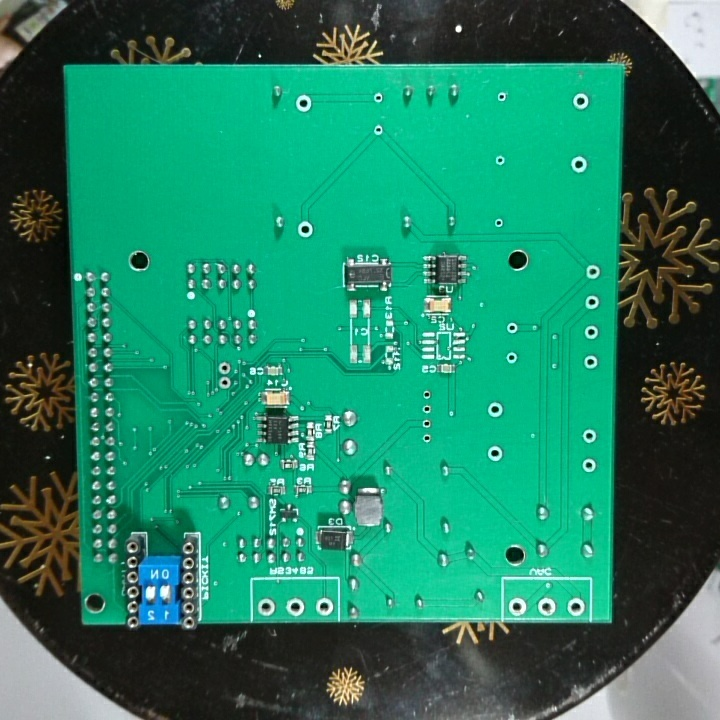F: (534, 595, 559, 618), (505, 595, 530, 618), (312, 596, 337, 618), (283, 596, 308, 618), (568, 154, 591, 177), (564, 595, 587, 618), (292, 92, 314, 115), (294, 218, 317, 240), (255, 596, 277, 618), (571, 90, 591, 113), (583, 262, 603, 283), (485, 443, 505, 463), (486, 400, 506, 420), (583, 292, 602, 313), (580, 426, 599, 446), (491, 151, 510, 170), (582, 323, 600, 343), (579, 457, 599, 475), (582, 351, 599, 372), (216, 374, 233, 392), (503, 320, 520, 337), (215, 360, 234, 375), (494, 89, 510, 106), (504, 351, 521, 366), (371, 89, 385, 107), (371, 120, 385, 138), (420, 387, 434, 403), (420, 416, 434, 431), (420, 432, 434, 447), (492, 215, 505, 231), (420, 402, 433, 418)
